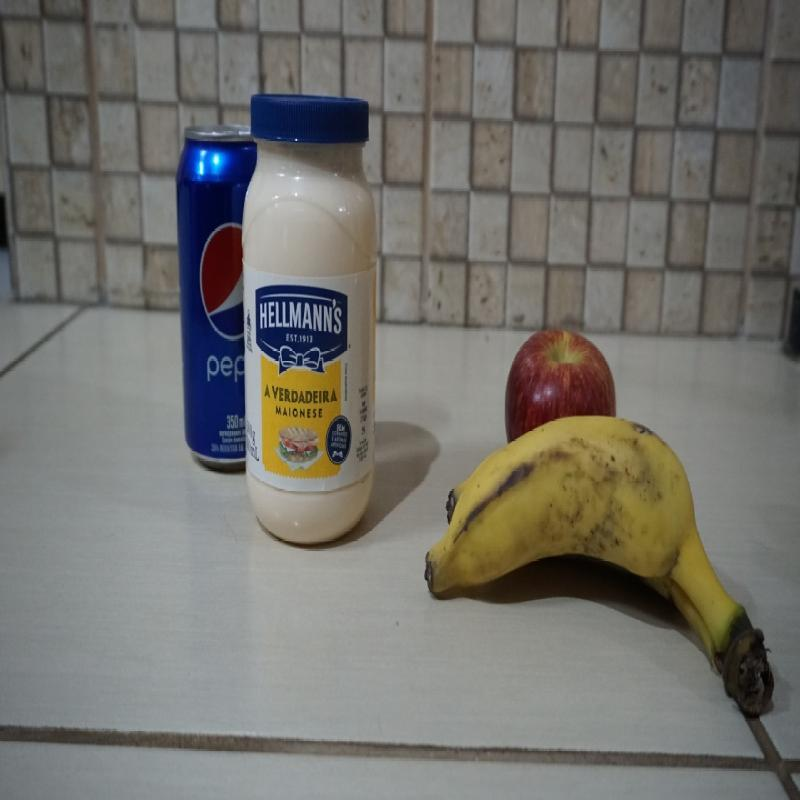Apple: (503, 328, 617, 444)
Banana: (424, 411, 775, 721)
Mayonnaise: (240, 91, 378, 551)
Soda can: (174, 125, 259, 477)
